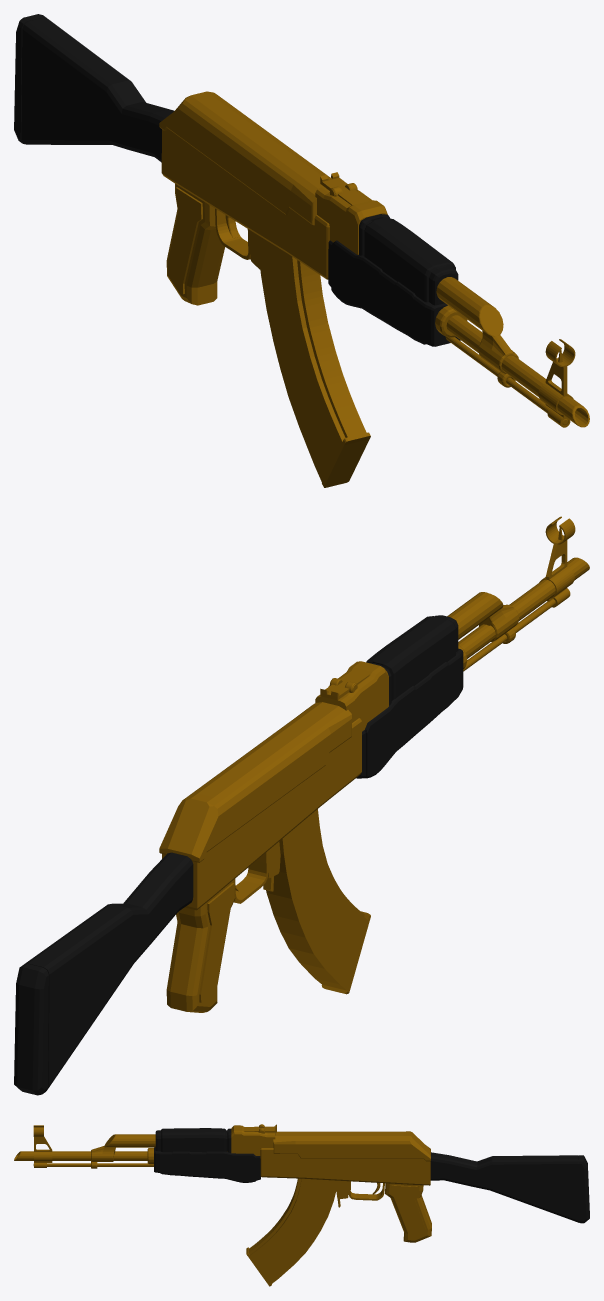
The picture shows the model from 3 angles, top to bottom: view 1: azimuth 30°, elevation 25°; view 2: azimuth 150°, elevation 25°; view 3: azimuth 270°, elevation 25°; orthographic projection. The views are drawn at different scales.
Parts seen in each view (by area): view 1: Приклад, Магазин, Верхняя часть корпуса, Нижняя чясть корпуса, Рукоять перед низ, Рукоять, Рукоять перед верх, Креление дула, Дуло, Крепление прицела, Прицел передний, Зашита курка (+2 smaller); view 2: Приклад, Верхняя часть корпуса, Магазин, Нижняя чясть корпуса, Рукоять, Рукоять перед низ, Рукоять перед верх, Крепление прицела, Креление дула, Дуло, Прицел передний, Зашита курка (+2 smaller); view 3: Приклад, Магазин, Нижняя чясть корпуса, Верхняя часть корпуса, Рукоять перед низ, Рукоять, Рукоять перед верх, Креление дула, Дуло, Крепление прицела, Прицел передний, Зашита курка (+1 smaller).
Part boxes in pixels (x1=…): Приклад: x1=14, y1=14, x2=174, y2=162; Магазин: x1=257, y1=235, x2=370, y2=487; Верхняя часть корпуса: x1=159, y1=91, x2=329, y2=225; Нижняя чясть корпуса: x1=161, y1=129, x2=329, y2=279; Рукоять перед низ: x1=328, y1=240, x2=460, y2=346; Рукоять: x1=166, y1=184, x2=224, y2=305; Рукоять перед верх: x1=359, y1=214, x2=458, y2=305; Креление дула: x1=436, y1=277, x2=518, y2=387; Дуло: x1=435, y1=305, x2=589, y2=427; Крепление прицела: x1=315, y1=186, x2=387, y2=254; Прицел передний: x1=538, y1=339, x2=575, y2=427; Зашита курка: x1=215, y1=208, x2=260, y2=269; Приклад: x1=14, y1=852, x2=193, y2=1095; Верхняя часть корпуса: x1=159, y1=702, x2=351, y2=862; Магазин: x1=266, y1=809, x2=370, y2=994; Нижняя чясть корпуса: x1=162, y1=718, x2=361, y2=910; Рукоять: x1=166, y1=879, x2=235, y2=1012; Рукоять перед низ: x1=356, y1=648, x2=463, y2=778; Рукоять перед верх: x1=366, y1=615, x2=458, y2=705; Крепление прицела: x1=315, y1=661, x2=388, y2=731; Креление дула: x1=447, y1=592, x2=519, y2=643; Дуло: x1=458, y1=557, x2=589, y2=668; Прицел передний: x1=539, y1=516, x2=575, y2=607; Зашита курка: x1=234, y1=841, x2=280, y2=903; Приклад: x1=430, y1=1152, x2=589, y2=1223; Магазин: x1=246, y1=1178, x2=337, y2=1286; Нижняя чясть корпуса: x1=260, y1=1148, x2=430, y2=1185; Верхняя часть корпуса: x1=273, y1=1131, x2=430, y2=1161; Рукоять перед низ: x1=154, y1=1147, x2=260, y2=1182; Рукоять: x1=385, y1=1183, x2=431, y2=1242; Рукоять перед верх: x1=155, y1=1128, x2=231, y2=1152; Креление дула: x1=91, y1=1134, x2=155, y2=1168; Дуло: x1=14, y1=1148, x2=153, y2=1164; Крепление прицела: x1=231, y1=1125, x2=275, y2=1155; Прицел передний: x1=33, y1=1125, x2=52, y2=1167; Зашита курка: x1=336, y1=1180, x2=384, y2=1207.
Size of the model in its own units: 4.55 by 32.93 by 109.
